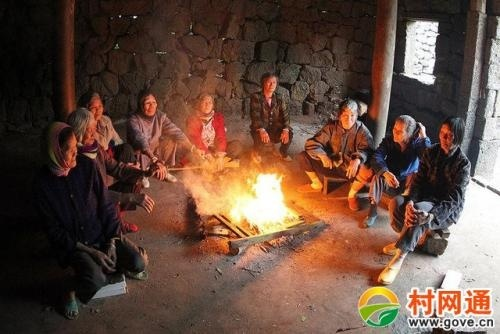fire: (231, 169, 296, 228)
